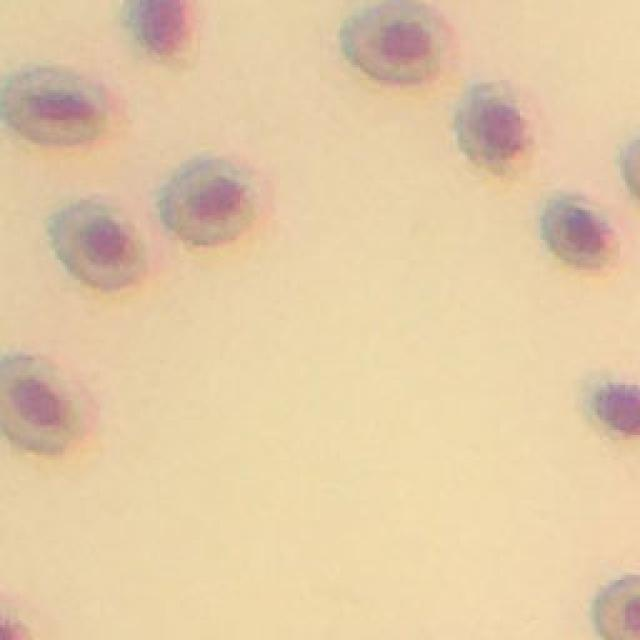RBC: (339, 0, 459, 83), (159, 156, 254, 245), (49, 200, 142, 290), (0, 66, 108, 143), (0, 355, 84, 452), (456, 79, 528, 171), (541, 199, 612, 266), (596, 575, 640, 640)
WBC: (129, 2, 182, 57), (592, 385, 640, 438)
